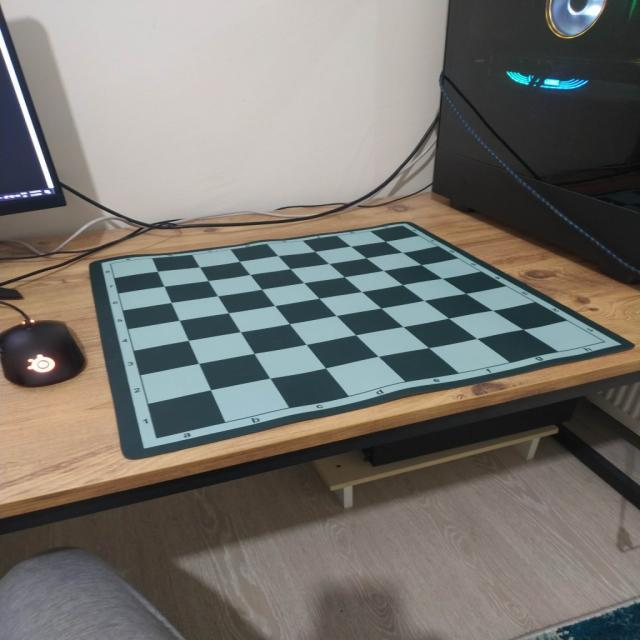chess-table-corners: (144, 429, 169, 446), (101, 258, 122, 270), (394, 218, 412, 232), (594, 336, 614, 348)
